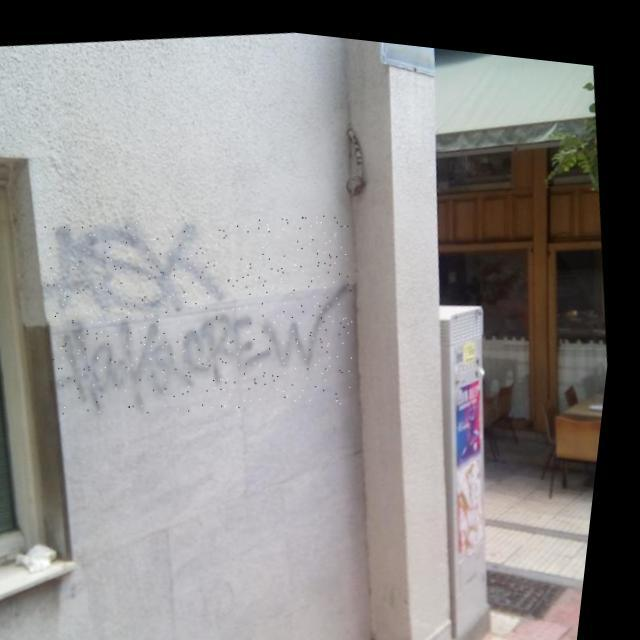-: (33, 178, 381, 442)
